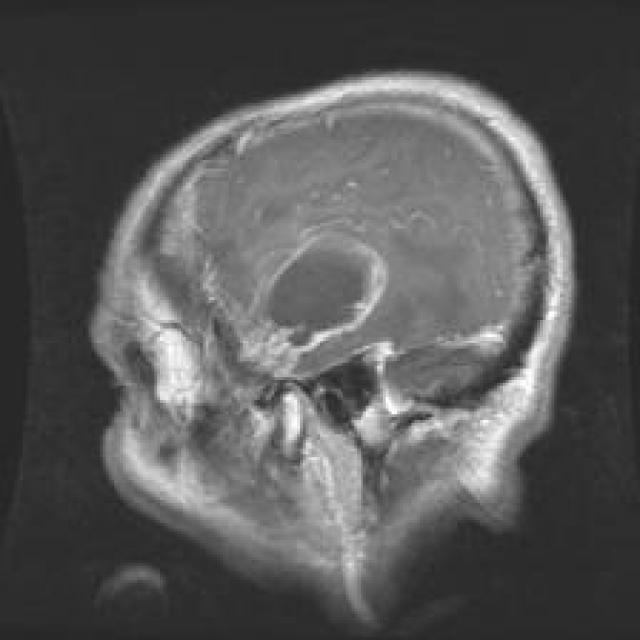glioma_tumor: (251, 219, 396, 371)
